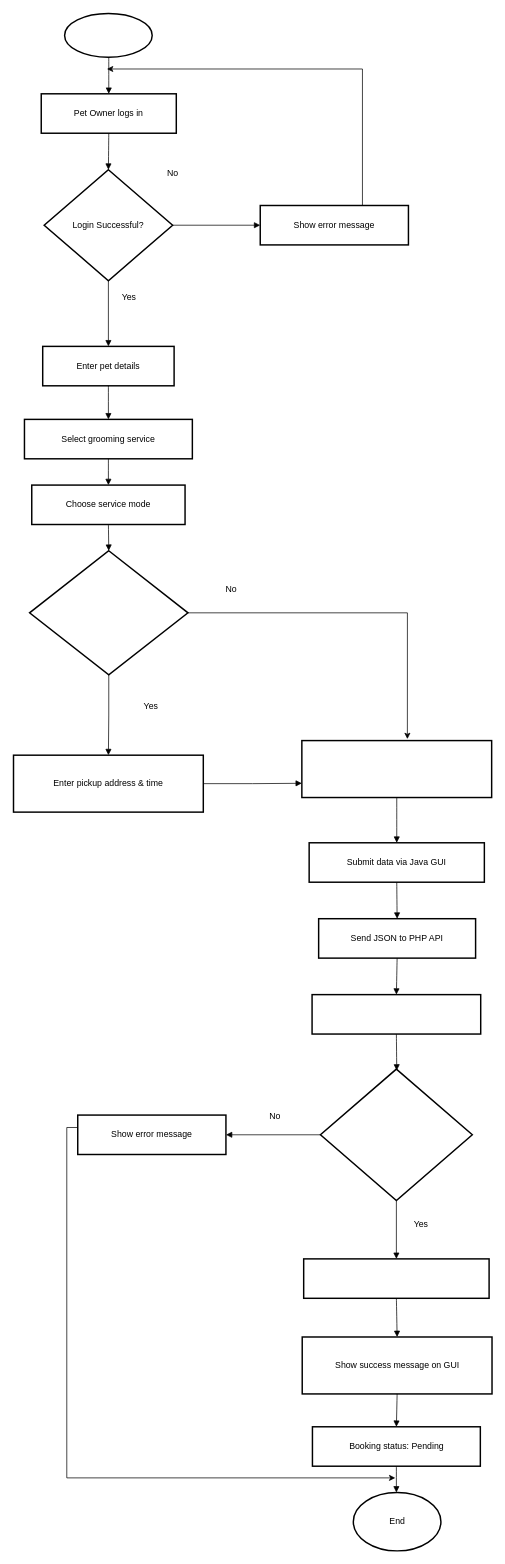
Image size: 505x1564. Some labels were removed from this diagram. Here are the shapes that lost their labels. From the top down, the centre of each, then its label:
the point at 108,35: Start
the point at 108,612: Is it Pickup & Delivery?
the point at 396,768: Set booking date/time using JCalendar
the point at 396,1014: Backend validates input
the point at 396,1134: Validation successful?
the point at 396,1278: Insert into MySQL database
